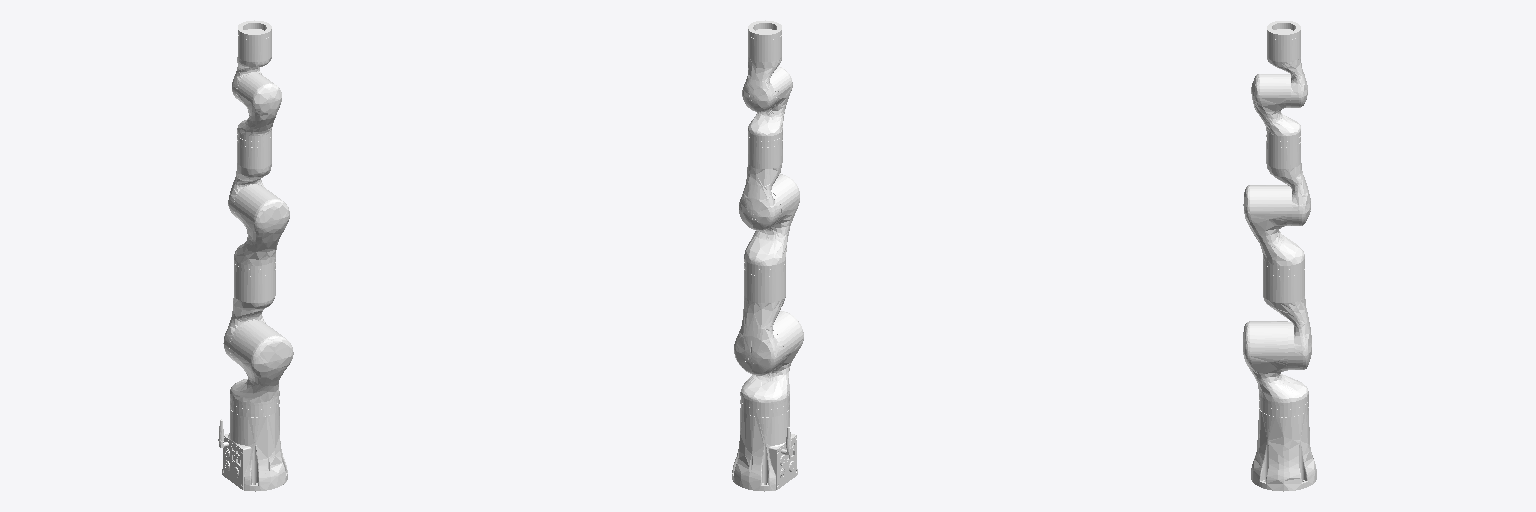
robot.urdf — RM75-6F:
<?xml version="1.0" encoding="utf-8"?>
<!-- This URDF was automatically created by SolidWorks to URDF Exporter! Originally created by Stephen Brawner (brawner@gmail.com) 
     Commit Version: 1.6.0-1-g15f4949  Build Version: 1.6.7594.29634
     For more information, please see http://wiki.ros.org/sw_urdf_exporter -->
<robot
  name="RM75-6F">
  <link
    name="base_link">
    <inertial>
      <origin
        xyz="0.00049987 5.2709E-05 0.060019"
        rpy="0 0 0" />
      <mass
        value="1.862" />
      <inertia
        ixx="0.0017232"
        ixy="-3.1058E-06"
        ixz="-3.7924E-05"
        iyy="0.0017051"
        iyz="1.3691E-06"
        izz="0.00090158" />
    </inertial>
    <visual>
      <origin
        xyz="0 0 0"
        rpy="0 0 0" />
      <geometry>
        <mesh
          filename="package://RM75-6F/meshes/base_link.dae" />
      </geometry>
      <material
        name="">
        <color
          rgba="1 1 1 1" />
      </material>
    </visual>
    <collision>
      <origin
        xyz="0 0 0"
        rpy="0 0 0" />
      <geometry>
        <mesh
          filename="package://RM75-6F/meshes/base_link.dae" />
      </geometry>
    </collision>
  </link>
  <link
    name="link_1">
    <inertial>
      <origin
        xyz="0.000241 -0.013273 -0.00995"
        rpy="0 0 0" />
      <mass
        value="1.574" />
      <inertia
        ixx="0.002487573"
        ixy="0.000009663"
        ixz="-0.000007909"
        iyy="0.002321038"
        iyz="0.000179393"
        izz="0.001450554" />
    </inertial>
    <visual>
      <origin
        xyz="0 0 0"
        rpy="0 0 0" />
      <geometry>
        <mesh
          filename="package://RM75-6F/meshes/link_1.dae" />
      </geometry>
      <material
        name="">
        <color
          rgba="1 1 1 1" />
      </material>
    </visual>
    <collision>
      <origin
        xyz="0 0 0"
        rpy="0 0 0" />
      <geometry>
        <mesh
          filename="package://RM75-6F/meshes/link_1.dae" />
      </geometry>
    </collision>
  </link>
  <joint
    name="joint_1"
    type="revolute">
    <origin
      xyz="0 0 0.2405"
      rpy="0 0 0" />
    <parent
      link="base_link" />
    <child
      link="link_1" />
    <axis
      xyz="0 0 1" />
    <limit
      lower="-3.106"
      upper="3.106"
      effort="60"
      velocity="3.14" />
  </joint>
  <link
    name="link_2">
    <inertial>
      <origin
        xyz="-0.000357 -0.106789 0.005329"
        rpy="0 0 0" />
      <mass
        value="1.217" />
      <inertia
        ixx="0.003494121"
        ixy="0.000002921"
        ixz="-0.000005613"
        iyy="0.000892721"
        iyz="-0.000583884"
        izz="0.003444080" />
    </inertial>
    <visual>
      <origin
        xyz="0 0 0"
        rpy="0 0 0" />
      <geometry>
        <mesh
          filename="package://RM75-6F/meshes/link_2.dae" />
      </geometry>
      <material
        name="">
        <color
          rgba="1 1 1 1" />
      </material>
    </visual>
    <collision>
      <origin
        xyz="0 0 0"
        rpy="0 0 0" />
      <geometry>
        <mesh
          filename="package://RM75-6F/meshes/link_2.dae" />
      </geometry>
    </collision>
  </link>
  <joint
    name="joint_2"
    type="revolute">
    <origin
      xyz="0 0 0"
      rpy="-1.5708 0 0" />
    <parent
      link="link_1" />
    <child
      link="link_2" />
    <axis
      xyz="0 0 1" />
    <limit
      lower="-2.2689"
      upper="2.2689"
      effort="60"
      velocity="3.14" />
  </joint>
  <link
    name="link_3">
    <inertial>
      <origin
        xyz="0.000003 -0.01398 -0.011324"
        rpy="0 0 0" />
      <mass
        value="1.11" />
      <inertia
        ixx="0.001836663"
        ixy="0.000002259"
        ixz="-0.000004216"
        iyy="0.001498875"
        iyz="0.000037167"
        izz="0.001062545" />
    </inertial>
    <visual>
      <origin
        xyz="0 0 0"
        rpy="0 0 0" />
      <geometry>
        <mesh
          filename="package://RM75-6F/meshes/link_3.dae" />
      </geometry>
      <material
        name="">
        <color
          rgba="1 1 1 1" />
      </material>
    </visual>
    <collision>
      <origin
        xyz="0 0 0"
        rpy="0 0 0" />
      <geometry>
        <mesh
          filename="package://RM75-6F/meshes/link_3.dae" />
      </geometry>
    </collision>
  </link>
  <joint
    name="joint_3"
    type="revolute">
    <origin
      xyz="0 -0.256 0"
      rpy="1.5708 0 0" />
    <parent
      link="link_2" />
    <child
      link="link_3" />
    <axis
      xyz="0 0 1" />
    <limit
      lower="-3.106"
      upper="3.106"
      effort="30"
      velocity="3.14" />
  </joint>
  <link
    name="link_4">
    <inertial>
      <origin
        xyz="-0.000005 -0.084658 0.004747"
        rpy="0 0 0" />
      <mass
        value="0.685" />
      <inertia
        ixx="0.001282444"
        ixy="-0.000000551"
        ixz="-0.000000630"
        iyy="0.000373013"
        iyz="-0.000232084"
        izz="0.001256177" />
    </inertial>
    <visual>
      <origin
        xyz="0 0 0"
        rpy="0 0 0" />
      <geometry>
        <mesh
          filename="package://RM75-6F/meshes/link_4.dae" />
      </geometry>
      <material
        name="">
        <color
          rgba="1 1 1 1" />
      </material>
    </visual>
    <collision>
      <origin
        xyz="0 0 0"
        rpy="0 0 0" />
      <geometry>
        <mesh
          filename="package://RM75-6F/meshes/link_4.dae" />
      </geometry>
    </collision>
  </link>
  <joint
    name="joint_4"
    type="revolute">
    <origin
      xyz="0 0 0"
      rpy="-1.5708 0 0" />
    <parent
      link="link_3" />
    <child
      link="link_4" />
    <axis
      xyz="0 0 1" />
    <limit
      lower="-2.356"
      upper="2.356"
      effort="30"
      velocity="3.14" />
  </joint>
  <link
    name="link_5">
    <inertial>
      <origin
        xyz="0.000078 -0.012937 -0.008781"
        rpy="0 0 0" />
      <mass
        value="0.619" />
      <inertia
        ixx="0.000627336"
        ixy="0.000001636"
        ixz="-0.000001345"
        iyy="0.000542455"
        iyz="0.000034970"
        izz="0.000370291" />
    </inertial>
    <visual>
      <origin
        xyz="0 0 0"
        rpy="0 0 0" />
      <geometry>
        <mesh
          filename="package://RM75-6F/meshes/link_5.dae" />
      </geometry>
      <material
        name="">
        <color
          rgba="1 1 1 1" />
      </material>
    </visual>
    <collision>
      <origin
        xyz="0 0 0"
        rpy="0 0 0" />
      <geometry>
        <mesh
          filename="package://RM75-6F/meshes/link_5.dae" />
      </geometry>
    </collision>
  </link>
  <joint
    name="joint_5"
    type="revolute">
    <origin
      xyz="0 -0.21 0"
      rpy="1.5708 0 0" />
    <parent
      link="link_4" />
    <child
      link="link_5" />
    <axis
      xyz="0 0 1" />
    <limit
      lower="-3.106"
      upper="3.106"
      effort="10"
      velocity="3.14" />
  </joint>
  <link
    name="link_6">
    <inertial>
      <origin
        xyz="-0.000014 -0.078524 0.002819"
        rpy="0 0 0" />
      <mass
        value="0.602" />
      <inertia
        ixx="0.000780774"
        ixy="-0.000000121"
        ixz="-0.000000469"
        iyy="0.000289973"
        iyz="-0.000120513"
        izz="0.000763955" />
    </inertial>
    <visual>
      <origin
        xyz="0 0 0"
        rpy="0 0 0" />
      <geometry>
        <mesh
          filename="package://RM75-6F/meshes/link_6.dae" />
      </geometry>
      <material
        name="">
        <color
          rgba="1 1 1 1" />
      </material>
    </visual>
    <collision>
      <origin
        xyz="0 0 0"
        rpy="0 0 0" />
      <geometry>
        <mesh
          filename="package://RM75-6F/meshes/link_6.dae" />
      </geometry>
    </collision>
  </link>
  <joint
    name="joint_6"
    type="revolute">
    <origin
      xyz="0 0 0"
      rpy="-1.5708 0 0" />
    <parent
      link="link_5" />
    <child
      link="link_6" />
    <axis
      xyz="0 0 1" />
    <limit
      lower="-2.234"
      upper="2.234"
      effort="10"
      velocity="3.14" />
  </joint>
  <link
    name="link_7">
    <inertial>
      <origin
        xyz="0.001094 -0.000077 -0.010119"
        rpy="0 0 0" />
      <mass
        value="0.144" />
      <inertia
        ixx="0.000044123"
        ixy="-0.000000064"
        ixz="0.0000003"
        iyy="0.000035078"
        iyz="-0.000000029"
        izz="0.000065445" />
    </inertial>
    <visual>
      <origin
        xyz="0 0 0"
        rpy="0 0 0" />
      <geometry>
        <mesh
          filename="package://RM75-6F/meshes/link_7.dae" />
      </geometry>
      <material
        name="">
        <color
          rgba="1 1 1 1" />
      </material>
    </visual>
    <collision>
      <origin
        xyz="0 0 0"
        rpy="0 0 0" />
      <geometry>
        <mesh
          filename="package://RM75-6F/meshes/collision/link_7.stl" />
      </geometry>
    </collision>
  </link>
  <joint
    name="joint_7"
    type="revolute">
    <origin
      xyz="0 -0.1612 0"
      rpy="1.5708 0 0" />
    <parent
      link="link_6" />
    <child
      link="link_7" />
    <axis
      xyz="0 0 1" />
    <limit
      lower="-6.28"
      upper="6.28"
      effort="10"
      velocity="3.14" />
  </joint>
  <!-- Gripper tcp: link_7 +Z +0.220 m (matches rm75_control / Realman gripper tool). -->
  <link name="tcp" />
  <joint name="link_7_to_tcp" type="fixed">
    <origin xyz="0 0 0.220" rpy="0 0 0" />
    <parent link="link_7" />
    <child link="tcp" />
  </joint>
</robot>

--- Render facts (derived) ---
3 views of the same robot in one strip: view 1: azimuth 30°, elevation 25°; view 2: azimuth 150°, elevation 25°; view 3: azimuth 270°, elevation 25° (orthographic).
Robot: RM75-6F — 9 links, 8 joints (7 revolute, 1 fixed); root link base_link; default pose: every joint at zero.
Visible links, largest first — view 1: base_link, link_1, link_3, link_5, link_2, link_6, link_4; view 2: base_link, link_2, link_4, link_1, link_6, link_3, link_5; view 3: base_link, link_1, link_3, link_2, link_5, link_6, link_4.
Boxes of the visible links, x1,y1,x2,y2 form: base_link: (218,402,287,491); link_1: (229,319,293,411); link_3: (233,184,289,270); link_5: (236,72,281,142); link_2: (223,264,275,360); link_6: (232,20,271,101); link_4: (228,136,271,217); base_link: (732,402,797,491); link_2: (734,264,785,375); link_4: (739,136,782,230); link_1: (740,311,803,411); link_6: (742,20,781,112); link_3: (744,174,799,270); link_5: (748,66,792,142); base_link: (1251,403,1316,491); link_1: (1243,321,1308,411); link_3: (1243,185,1304,270); link_2: (1263,264,1311,369); link_5: (1251,74,1300,142); link_6: (1267,21,1307,107); link_4: (1266,136,1310,225).
Size in the robot's own frame: 0.1143 by 0.123 by 0.8215 metres.
Meshes: 8 distinct files referenced, 7 mesh visuals loaded (7 Collada DAE); not drawn: 1 (reference not matched to a file when rendering).
